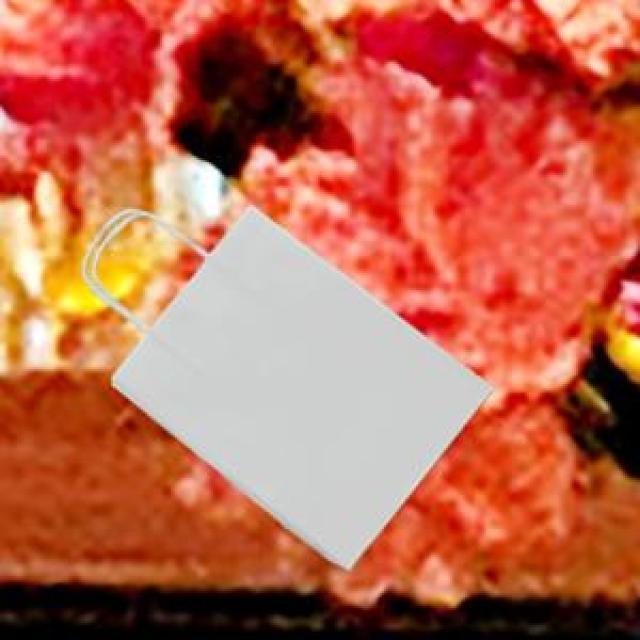paper: (77, 201, 489, 565)
